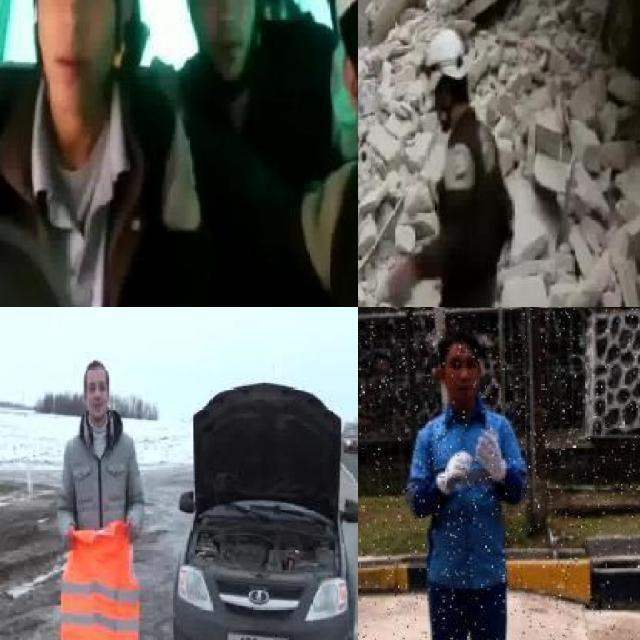apron: (432, 446, 480, 500), (473, 424, 509, 484)
